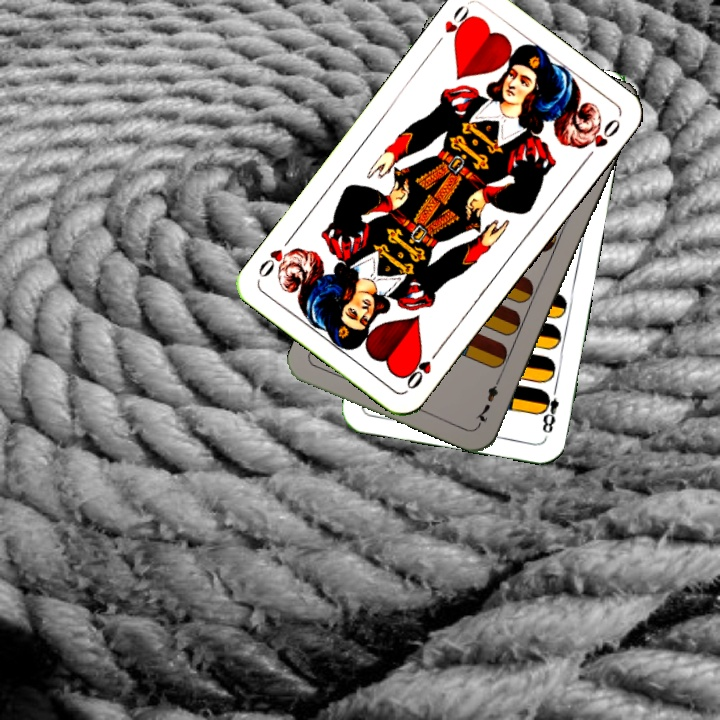E7: (471, 371, 505, 427)
E8: (536, 381, 562, 436)
HO: (430, 1, 477, 50), (402, 343, 444, 392)
